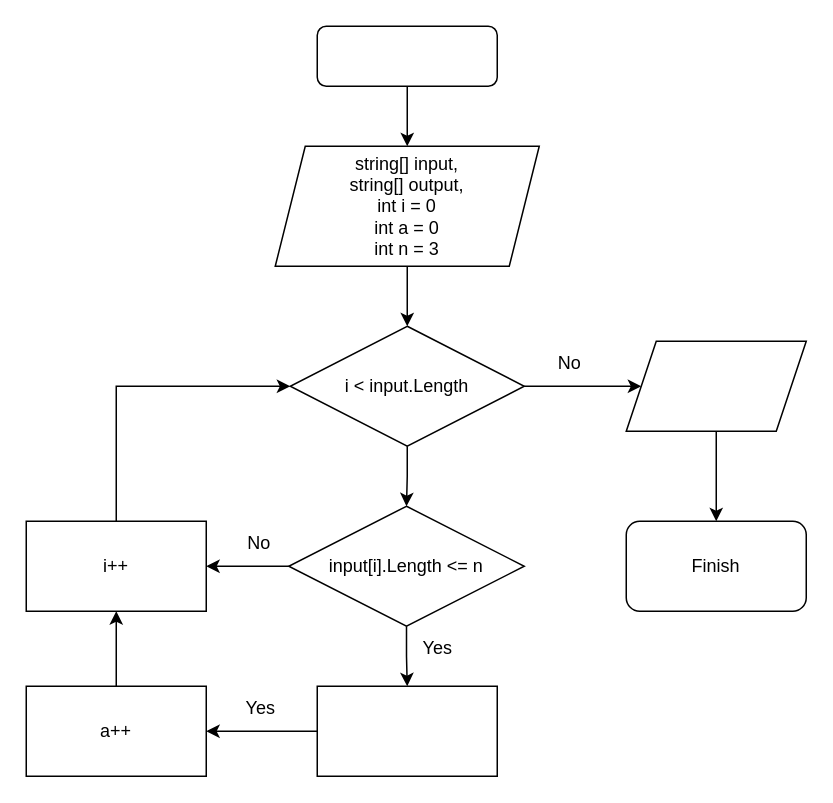
The diagram is 833 pixels wide and 803 high, and some of its shapes have lost their labels. Here are the shapes that lost their labels. From the top down, the centre of each, then its label:
At pixel 406 55: "Start".
At pixel 715 385: "output".
At pixel 406 730: "output[a] = input[i]".
